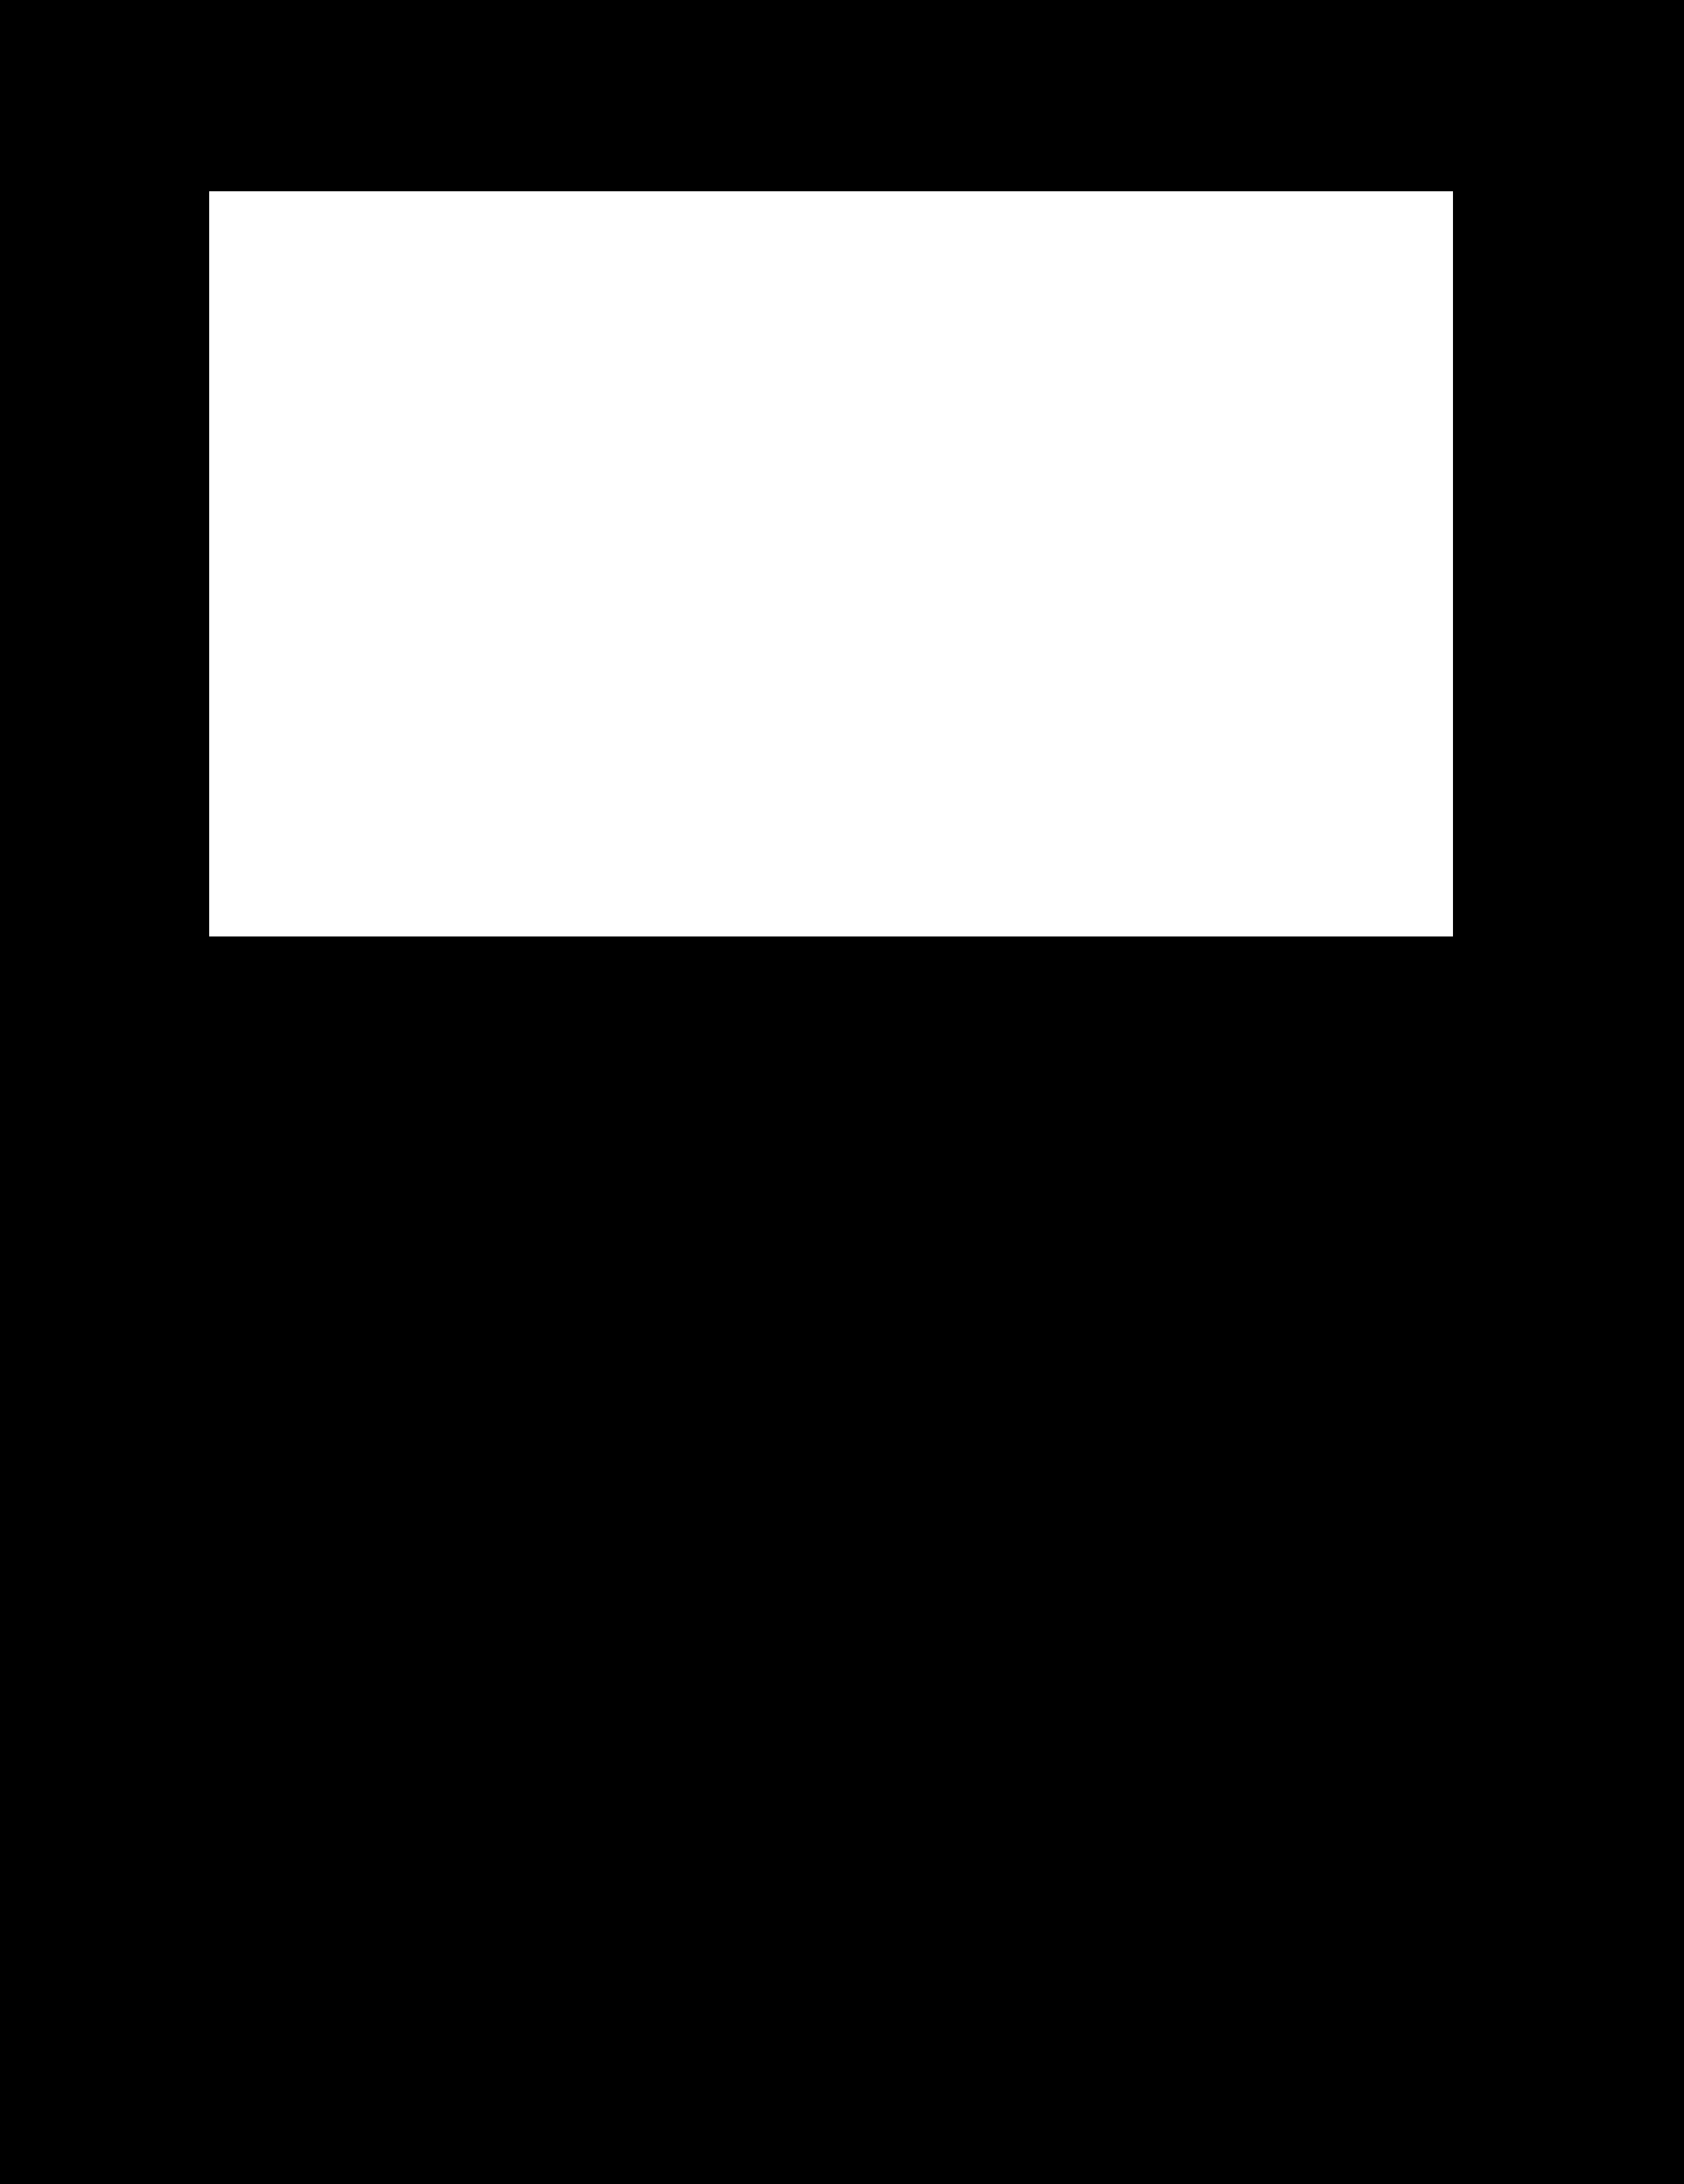table: (209, 191, 1452, 935)
